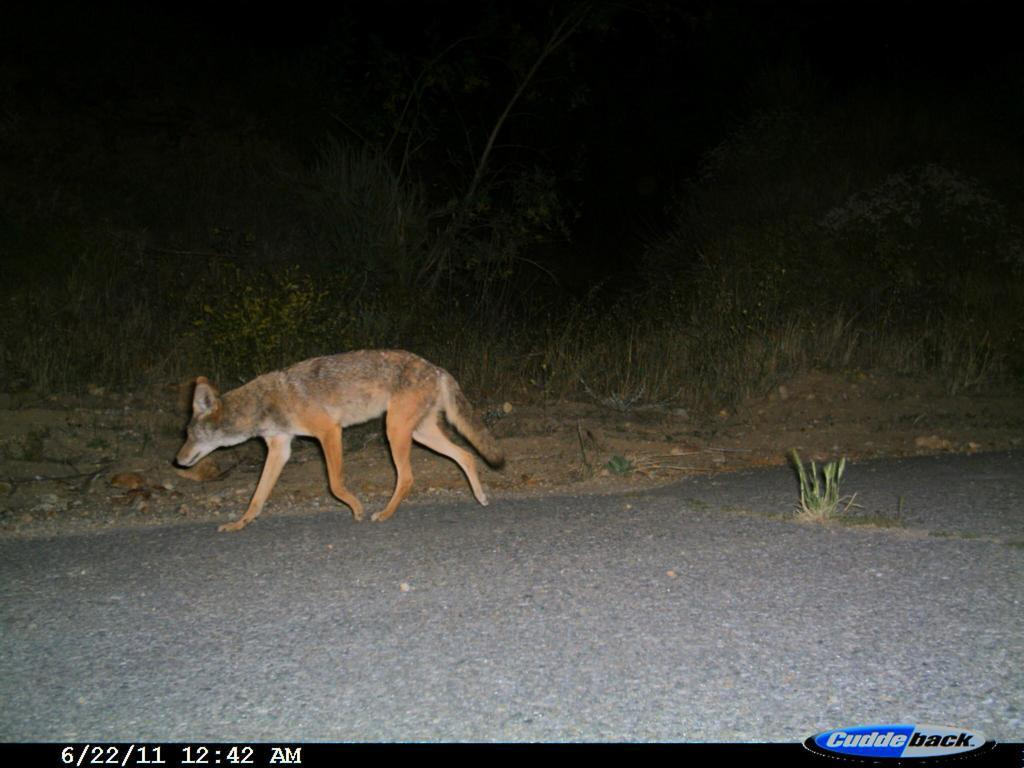coyote: (171, 341, 513, 537)
